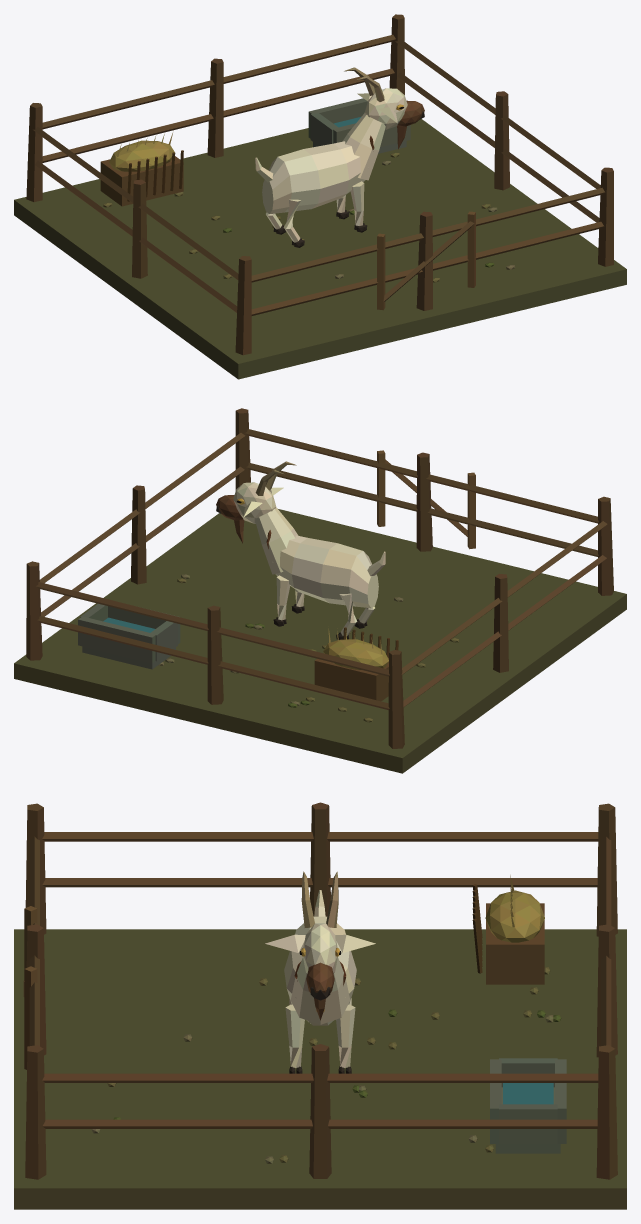
Rendered from elevage_chevre_petit.glb.
The picture shows the model from 3 angles, top to bottom: view 1: azimuth 30°, elevation 25°; view 2: azimuth 150°, elevation 25°; view 3: azimuth 270°, elevation 25°; orthographic projection. The views are drawn at different scales.
Parts seen in each view (by area): view 1: Enclos_petit, Chevre_00; view 2: Enclos_petit, Chevre_00; view 3: Enclos_petit, Chevre_00.
Part boxes in pixels (x1=…): Enclos_petit: x1=14, y1=14, x2=626, y2=379; Chevre_00: x1=255, y1=67, x2=424, y2=247; Enclos_petit: x1=14, y1=408, x2=626, y2=773; Chevre_00: x1=216, y1=461, x2=385, y2=639; Enclos_petit: x1=14, y1=802, x2=626, y2=1209; Chevre_00: x1=265, y1=871, x2=375, y2=1073.
Bounding box in the file's own units: 0.472 × 0.1957 × 0.472.
